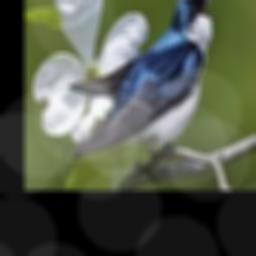Swallow: (69, 0, 219, 163)
